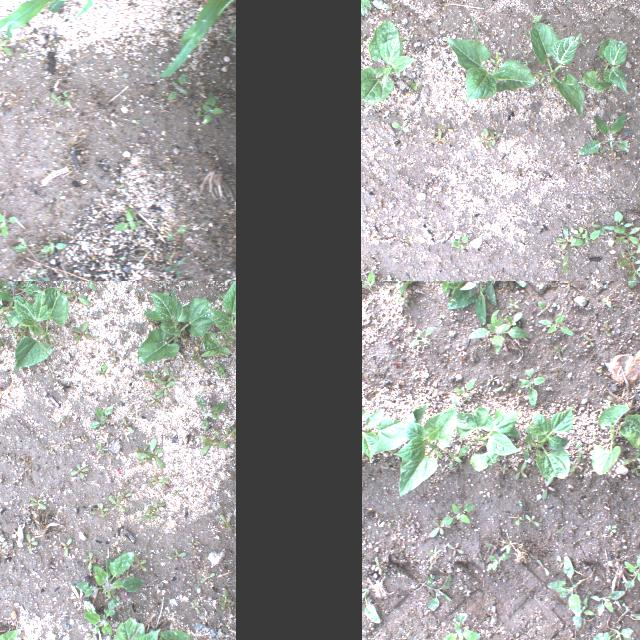crop: (0, 0, 112, 69), (137, 286, 215, 364), (444, 36, 534, 102), (393, 407, 457, 495), (530, 22, 584, 118), (6, 286, 68, 369), (360, 18, 416, 104), (456, 402, 520, 472), (524, 407, 576, 479), (361, 404, 427, 460), (198, 281, 236, 357), (591, 402, 631, 474), (580, 36, 628, 92), (97, 617, 170, 640), (621, 406, 640, 476)
weed: (157, 0, 236, 77), (431, 281, 526, 321), (74, 552, 144, 604), (543, 557, 593, 629), (464, 306, 528, 352), (576, 112, 628, 154), (425, 499, 477, 537), (413, 576, 455, 614), (602, 210, 640, 246), (82, 597, 118, 635), (362, 577, 390, 625), (380, 281, 446, 300), (438, 611, 481, 640), (484, 533, 516, 569), (195, 396, 228, 430), (518, 368, 546, 408), (535, 312, 575, 338), (590, 588, 624, 618), (134, 438, 164, 468), (450, 375, 480, 405), (0, 281, 40, 303), (442, 442, 470, 473), (616, 246, 640, 281), (593, 621, 635, 640), (114, 204, 142, 232), (620, 551, 640, 586), (196, 427, 220, 455), (202, 93, 224, 123), (404, 326, 436, 346), (61, 286, 90, 306), (88, 406, 114, 428), (476, 126, 500, 148), (70, 321, 92, 344), (168, 72, 186, 100), (360, 0, 393, 15), (571, 228, 601, 244), (485, 374, 511, 392), (556, 227, 576, 250), (360, 267, 392, 281), (510, 459, 530, 481), (550, 342, 570, 364), (0, 210, 15, 238), (164, 255, 183, 277), (625, 599, 640, 626), (155, 376, 175, 396), (217, 281, 236, 302), (541, 478, 557, 502), (106, 494, 126, 512), (132, 505, 152, 523), (535, 295, 555, 313), (40, 240, 66, 253), (143, 310, 171, 322), (426, 546, 440, 570), (69, 463, 89, 479), (141, 368, 161, 384), (368, 555, 384, 575), (598, 319, 614, 339), (202, 437, 228, 449), (218, 588, 232, 610), (146, 389, 164, 406), (428, 127, 447, 143), (168, 224, 186, 240), (218, 513, 234, 531), (28, 494, 46, 510), (90, 502, 108, 518), (148, 498, 166, 514), (602, 518, 618, 536), (535, 558, 551, 576), (431, 384, 444, 406), (554, 253, 568, 273), (22, 533, 36, 553), (505, 295, 525, 309), (162, 363, 176, 382), (626, 454, 640, 473), (454, 342, 466, 364), (572, 442, 584, 464), (12, 236, 28, 252), (392, 119, 408, 135), (452, 233, 468, 249), (581, 331, 597, 347), (59, 538, 73, 556), (132, 554, 146, 572), (168, 547, 186, 561), (121, 416, 135, 434), (445, 542, 463, 556), (148, 474, 168, 486), (190, 349, 203, 367), (405, 80, 421, 94), (525, 511, 539, 527), (382, 332, 398, 346), (0, 34, 11, 54), (511, 511, 523, 529), (380, 460, 392, 478), (90, 620, 104, 634), (222, 424, 236, 438), (600, 294, 614, 308), (572, 226, 588, 238), (199, 572, 215, 584), (116, 490, 132, 502), (1, 299, 17, 311), (162, 282, 174, 298), (0, 283, 7, 309), (159, 375, 177, 385), (190, 598, 200, 614), (215, 362, 225, 378), (558, 281, 578, 289), (95, 442, 106, 456), (85, 551, 93, 569), (186, 537, 198, 549), (49, 94, 63, 104), (18, 466, 30, 476), (126, 402, 136, 414), (135, 444, 147, 454), (56, 415, 66, 427), (107, 350, 119, 360), (1, 316, 13, 326), (414, 492, 426, 502), (143, 512, 157, 520), (119, 477, 129, 488), (170, 488, 182, 497), (111, 545, 121, 555), (95, 364, 105, 374), (134, 291, 144, 301), (86, 281, 96, 291), (516, 496, 526, 506), (498, 462, 508, 472), (221, 620, 229, 632), (222, 600, 234, 608), (140, 456, 152, 464), (44, 447, 56, 455), (0, 539, 6, 554), (61, 438, 70, 448), (18, 327, 26, 338), (86, 631, 95, 640), (78, 432, 88, 440), (10, 331, 20, 339), (149, 318, 159, 326), (117, 182, 129, 188), (164, 482, 173, 490), (48, 366, 54, 378), (196, 105, 200, 117), (61, 90, 67, 98), (58, 190, 64, 197), (53, 633, 59, 640), (38, 444, 48, 448), (134, 118, 140, 124)
